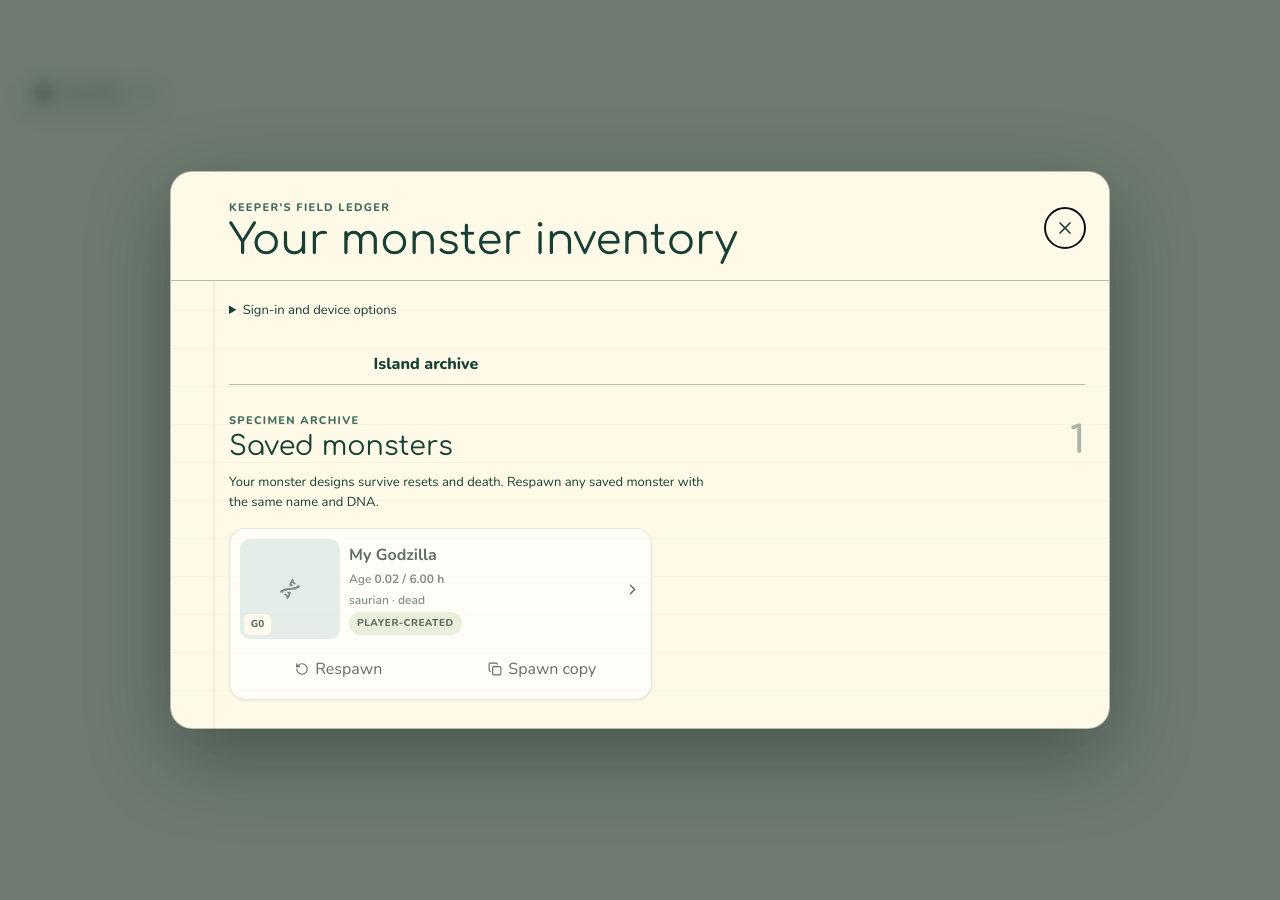
it: monster recovery and inventory › keeps the inventory open and reports a failed respawn
This screenshot has width=1280, height=900.
Click the button "Respawn". click: {"x": 339, "y": 669}
box: [240,649,438,689]
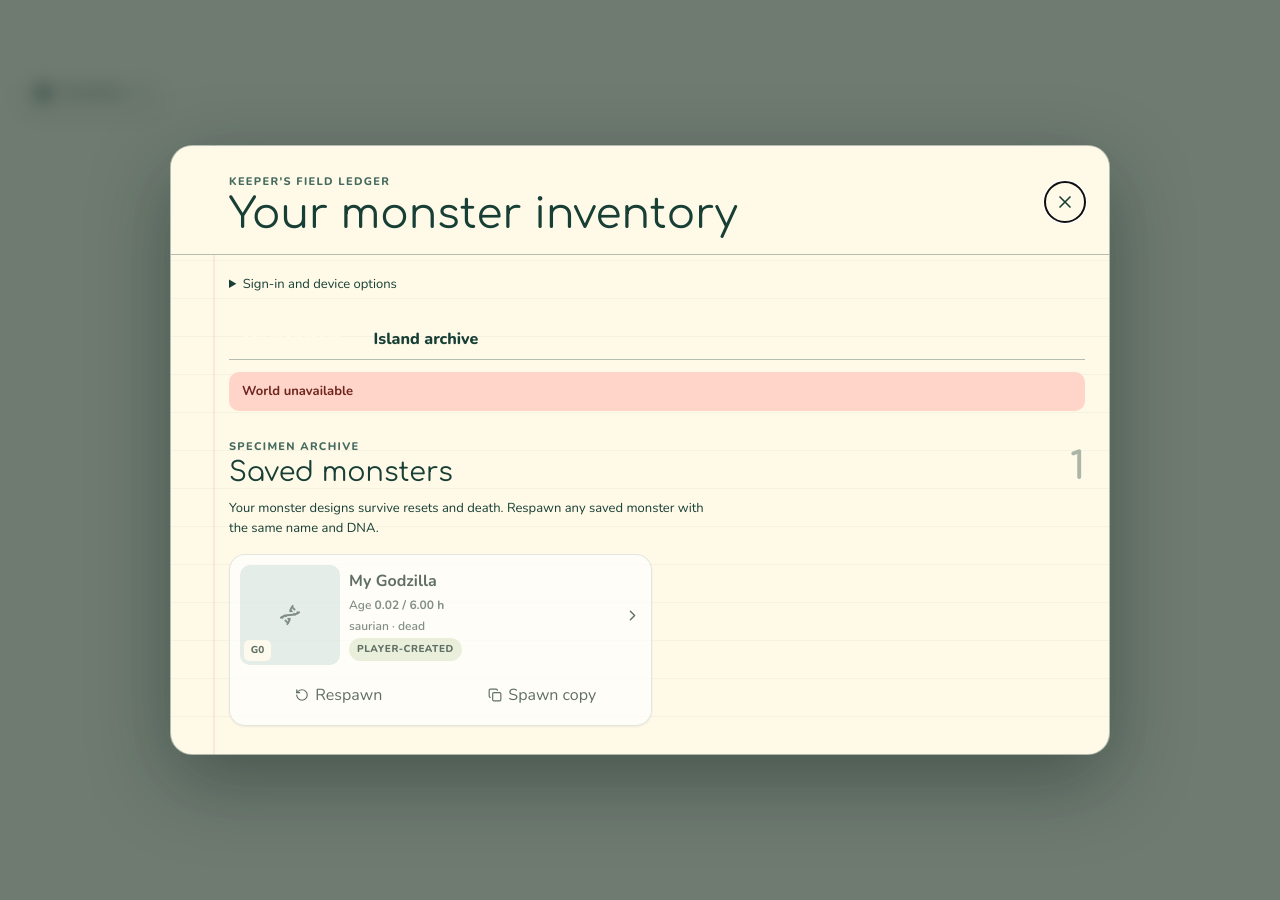
Expected: the button "Respawn" is enabled, [240,675,438,715]
Now the text "World unavailable" is shown, box [229,372,1085,411]
